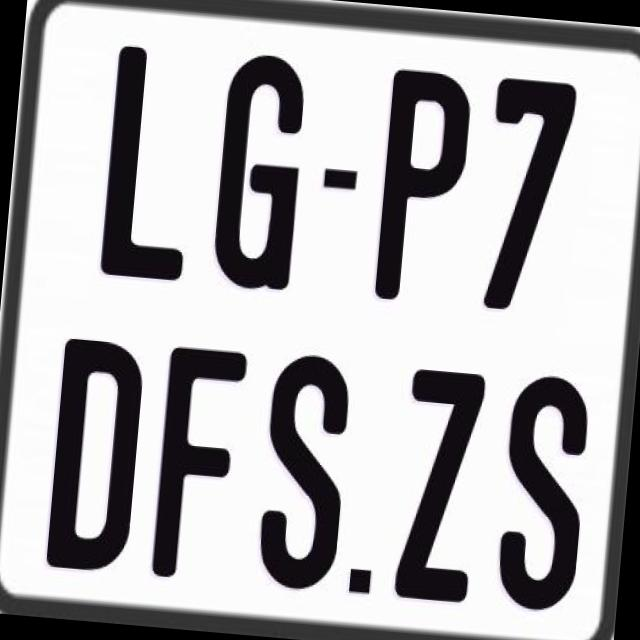7: (474, 73, 576, 320)
D: (41, 336, 146, 573)
F: (146, 344, 246, 580)
G: (210, 49, 316, 294)
L: (98, 45, 203, 281)
P: (370, 65, 474, 306)
S: (491, 372, 596, 618), (254, 352, 356, 598)
Z: (390, 368, 482, 606)
